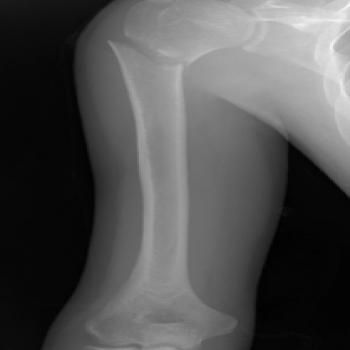Fracture: (90, 28, 202, 73)
